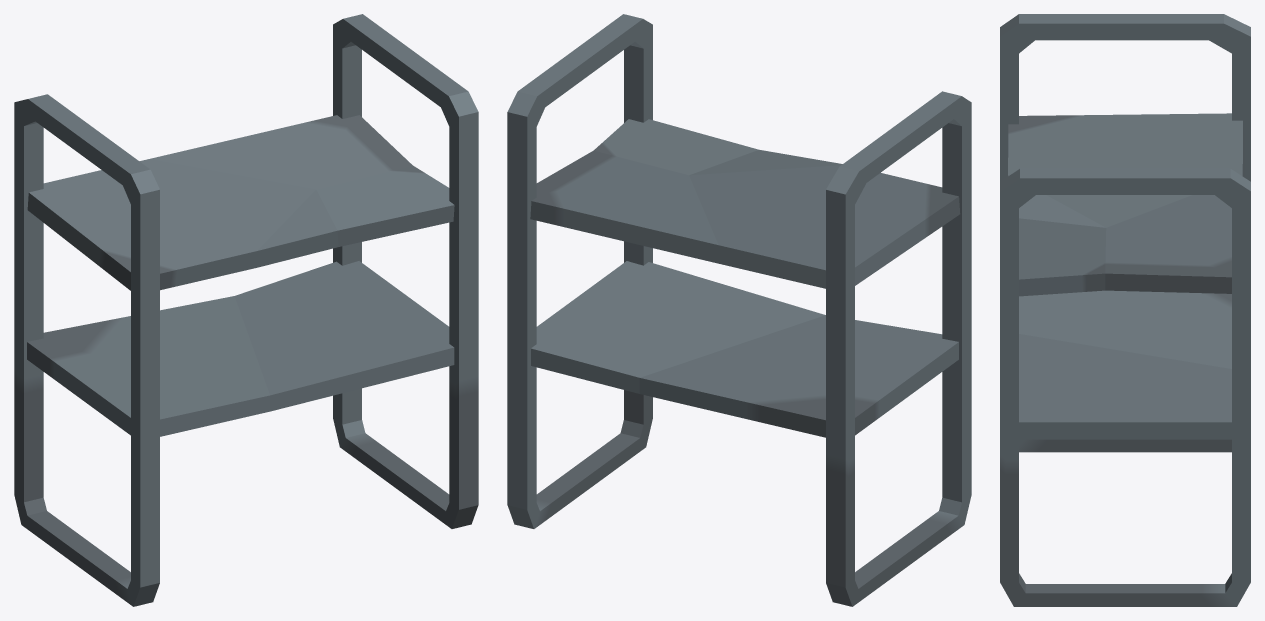
File: SM_Prop_Medical_Shelf_01.glb
3 views of the same model, side by side, from view 1: azimuth 30°, elevation 25°; view 2: azimuth 150°, elevation 25°; view 3: azimuth 270°, elevation 25° (orthographic).
Visible parts, largest first — view 1: SM_Prop_Medical_Shelf_01; view 2: SM_Prop_Medical_Shelf_01; view 3: SM_Prop_Medical_Shelf_01.
Part boxes in pixels (left/top/right/bottom): SM_Prop_Medical_Shelf_01: left=14, top=14, right=478, bottom=606; SM_Prop_Medical_Shelf_01: left=507, top=14, right=971, bottom=606; SM_Prop_Medical_Shelf_01: left=1000, top=14, right=1250, bottom=606.
Size of the model in its own units: 0.8682 by 1.06 by 0.56.
1 material, 1 textured.
